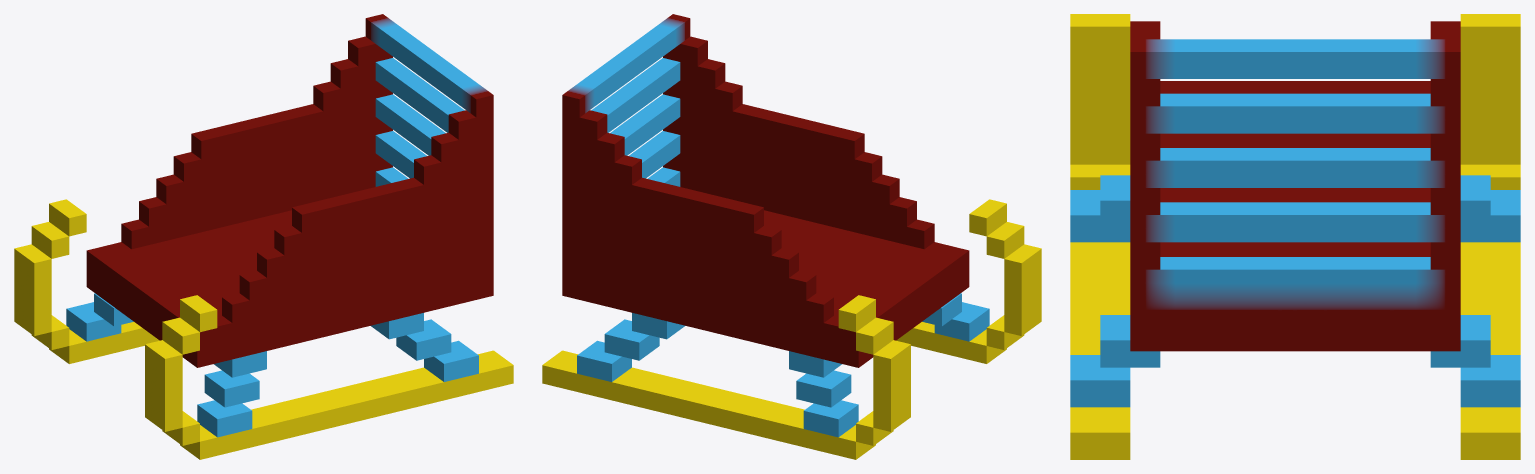
The model's file is Vehicle_3.fbx.
3 views of the same model, side by side, from view 1: azimuth 30°, elevation 25°; view 2: azimuth 150°, elevation 25°; view 3: azimuth 270°, elevation 25° (orthographic). The views are drawn at different scales.
Visible parts, largest first — view 1: Vehicle_3; view 2: Vehicle_3; view 3: Vehicle_3.
Boxes of the visible parts, <box> form: Vehicle_3: <box>14,14,513,459</box>; Vehicle_3: <box>542,14,1041,459</box>; Vehicle_3: <box>1070,14,1520,459</box>.
Bounding box in the file's own units: 20 × 15 × 15.
Materials: 1 (1 with a texture image).
